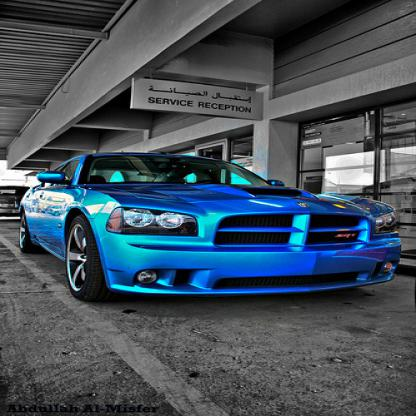Vehicle: (15, 149, 407, 305)
